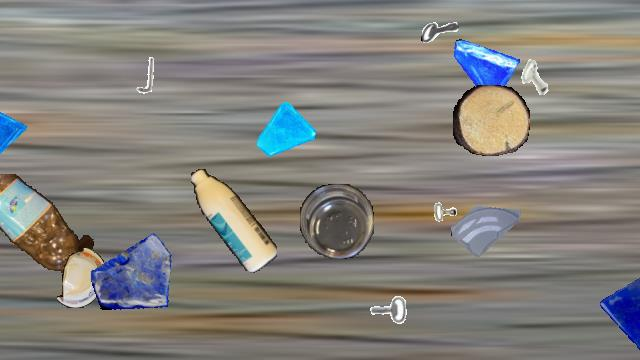glass: (91, 227, 177, 313), (451, 189, 523, 261), (450, 36, 520, 106), (596, 275, 640, 359), (257, 102, 315, 160), (0, 89, 26, 173)
metal: (510, 52, 562, 104), (359, 294, 409, 344), (418, 200, 466, 248), (124, 55, 164, 95), (421, 12, 459, 50)
plastic: (0, 174, 96, 272), (191, 169, 277, 273), (300, 184, 374, 258), (57, 248, 107, 308)
wood: (453, 85, 529, 155)
